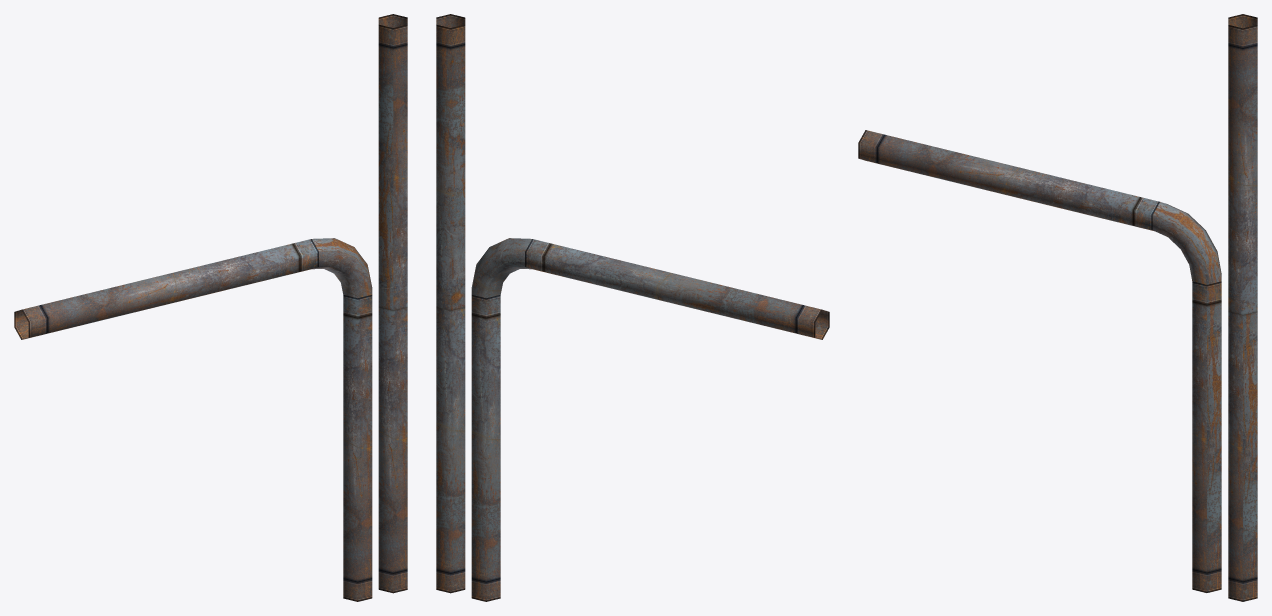
File: Pipe.fbx
3 views of the same model, side by side, from view 1: azimuth 30°, elevation 25°; view 2: azimuth 150°, elevation 25°; view 3: azimuth 330°, elevation 25° (orthographic).
Parts seen in each view (by area): view 1: Pipe; view 2: Pipe; view 3: Pipe.
Boxes of the visible parts, left/top/right/bottom form: Pipe: left=14, top=14, right=407, bottom=601; Pipe: left=436, top=14, right=829, bottom=601; Pipe: left=858, top=14, right=1257, bottom=601.
Bounding box in the file's own units: 406 × 567 × 26.41.
